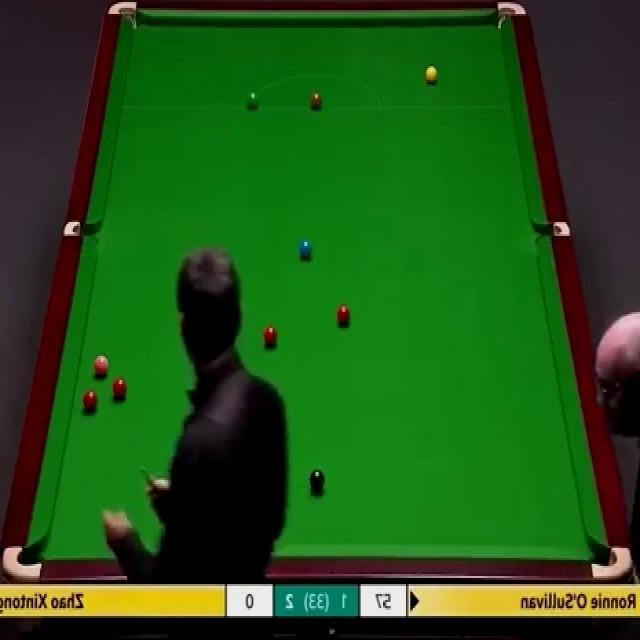black-ball: (308, 468, 324, 492)
blue-ball: (299, 236, 312, 262)
brown-ball: (309, 91, 323, 109)
green-ball: (245, 88, 260, 110)
red-ball: (110, 376, 127, 404), (263, 324, 278, 350), (91, 356, 110, 376), (81, 392, 98, 414), (337, 303, 351, 324)
yellow-ball: (425, 66, 437, 85)
